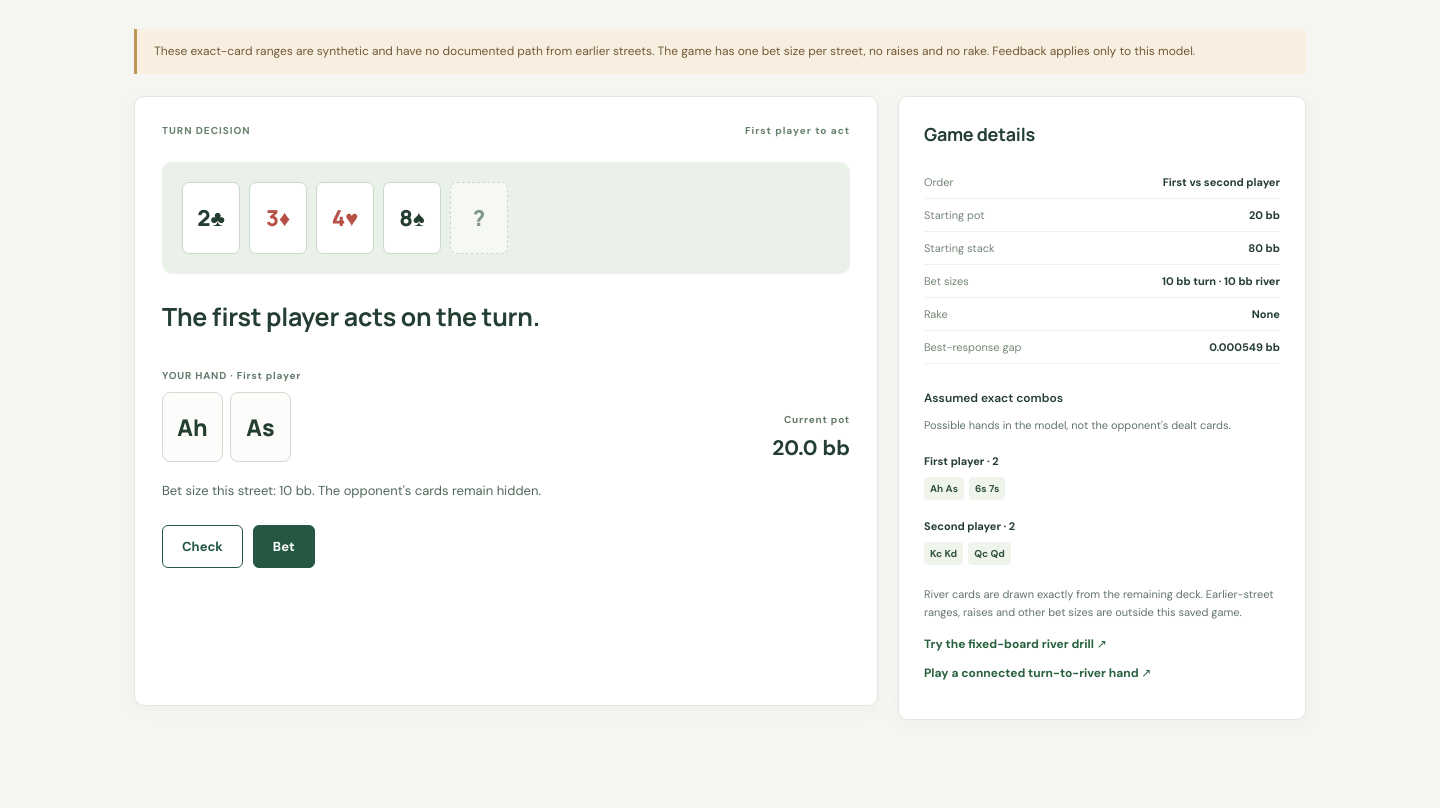
keeps the future river hidden on a turn question and grades on the server
This screenshot has width=1440, height=808.
(page scrolled)
expect the heading "The first player acts on the turn." is shown: met, box [162,299,540,334]
expect the text named "River not yet dealt" is shown: met, box [450,182,508,254]
Click the button "Bet". click: (284, 547)
box: [253,525,315,568]
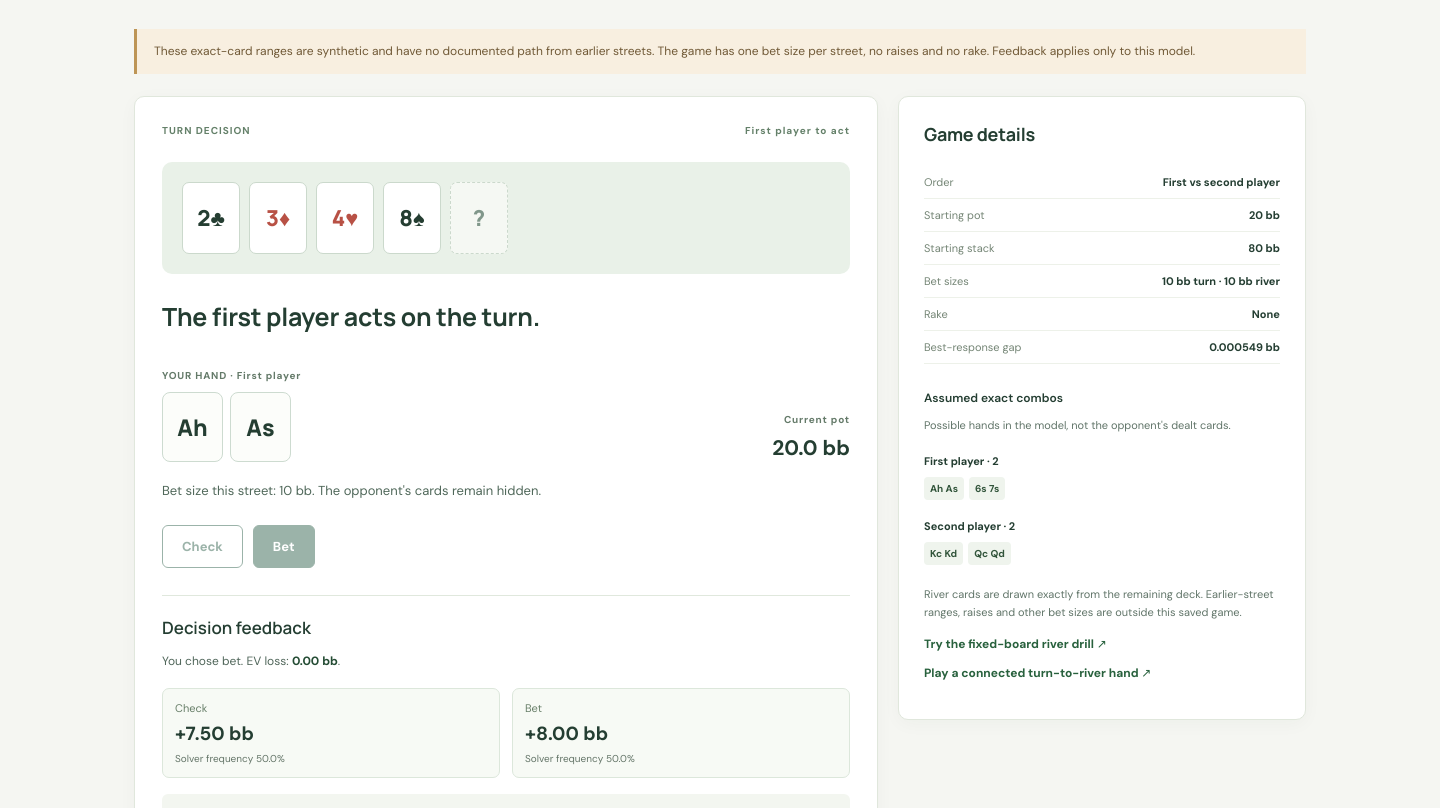
expect the heading "Decision feedback" is shown: met, box [162,616,311,639]
expect the text "You chose bet. EV loss: 0.00 bb." is shown: met, box [162,653,340,669]
